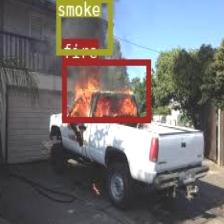fire: (61, 59, 150, 122)
smoke: (56, 0, 111, 53)
